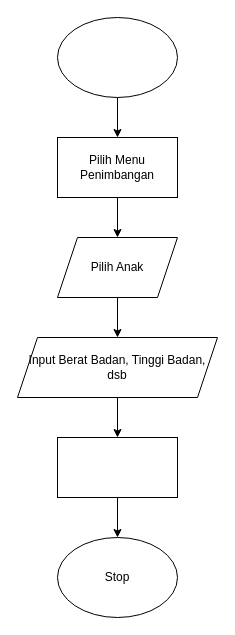
This 235x635 diagram has some shape labels left out. The centre of each missing label's shape, as x and y in pixels:
"Simpan ke Database" goes at point (117, 467).
"Start" goes at point (117, 57).
